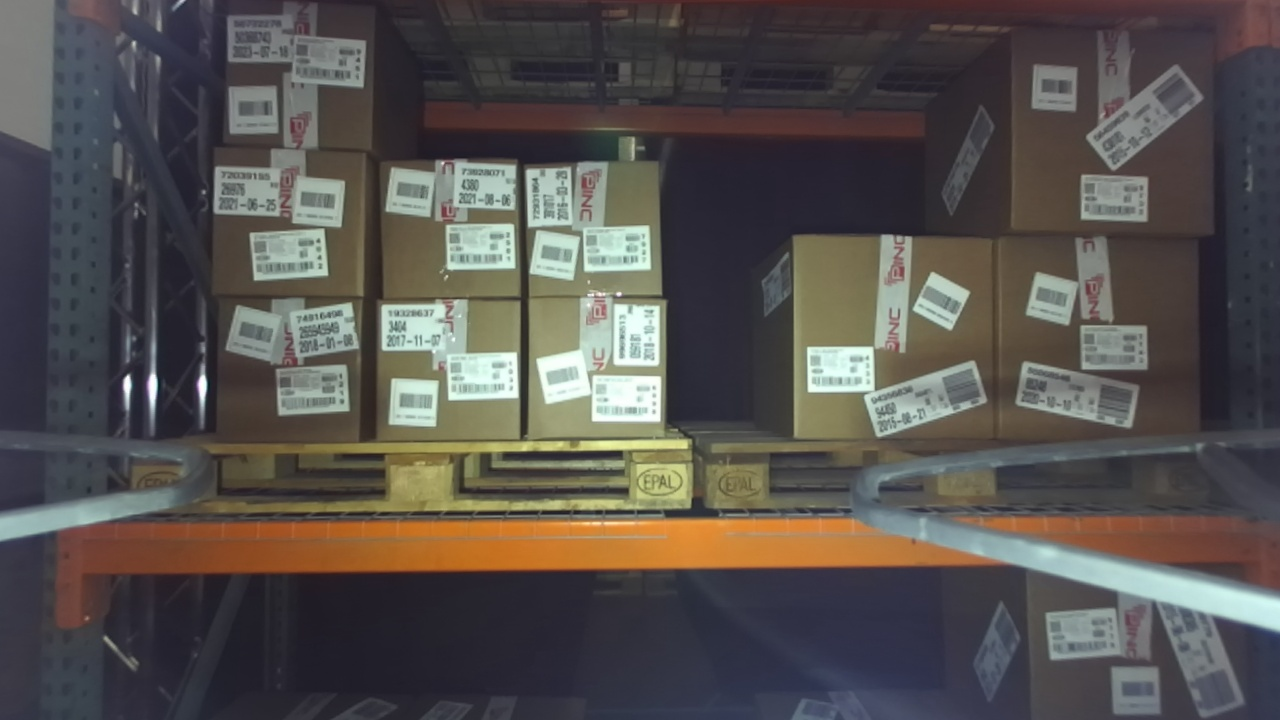box: (977, 214, 1227, 460), (769, 213, 1012, 453), (990, 18, 1234, 250), (187, 289, 394, 459), (355, 281, 537, 472), (357, 140, 546, 315), (196, 139, 385, 312), (511, 276, 687, 454), (198, 4, 389, 165), (508, 139, 676, 305)
